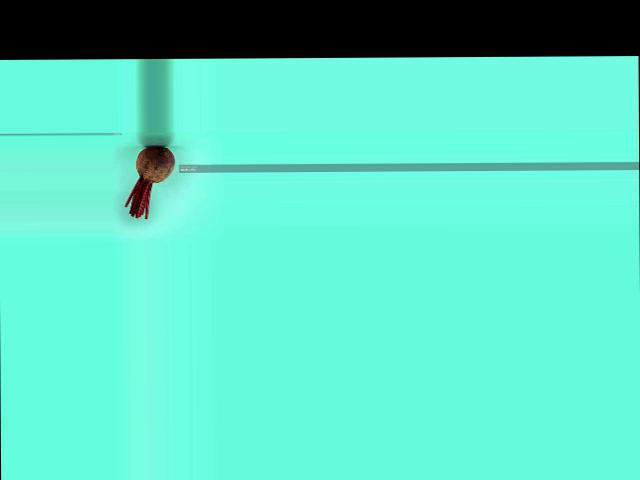beet: (125, 146, 175, 219)
